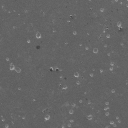corrosion: (48, 66, 60, 73), (43, 113, 51, 122), (72, 70, 81, 78), (35, 31, 42, 39), (116, 20, 123, 28), (86, 113, 93, 121), (9, 62, 15, 71), (92, 47, 99, 54), (71, 29, 78, 36), (99, 6, 106, 13), (61, 84, 68, 91), (68, 108, 74, 115), (110, 87, 116, 94), (105, 32, 111, 39), (104, 111, 110, 117), (88, 72, 94, 78), (69, 14, 75, 20), (85, 45, 90, 52), (104, 101, 110, 106), (109, 120, 115, 125), (109, 66, 114, 71), (32, 97, 37, 102), (119, 42, 124, 47), (98, 68, 103, 73), (69, 119, 75, 123), (26, 38, 30, 43)
